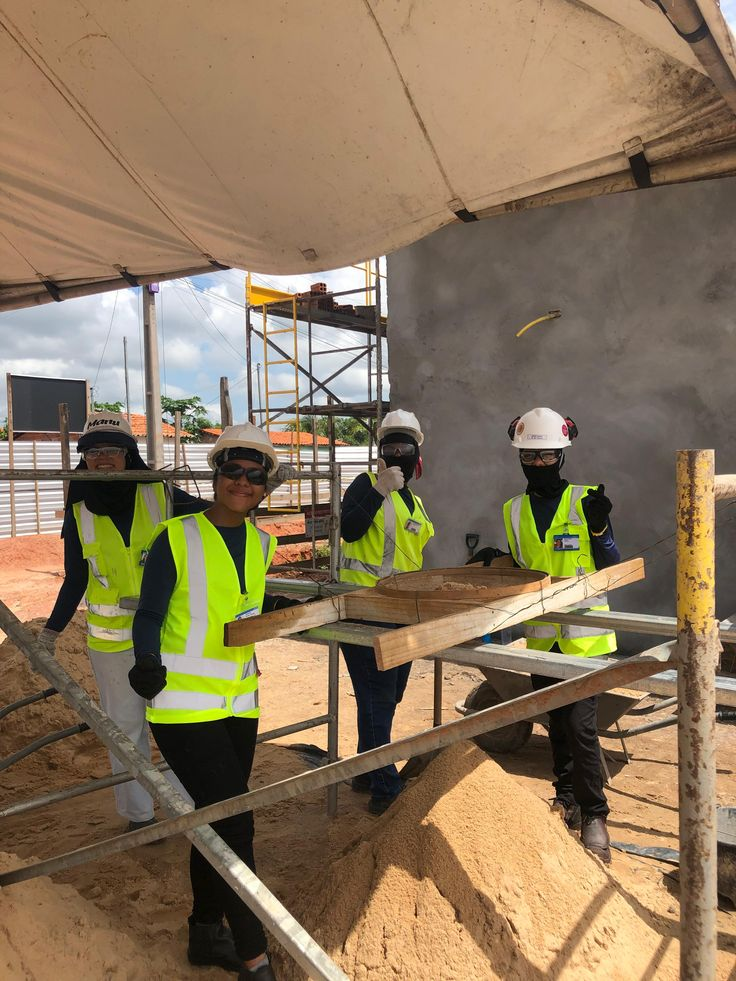hardhat: (500, 407, 586, 455), (68, 409, 151, 449), (206, 418, 286, 459), (376, 397, 431, 439)
person: (140, 418, 312, 975), (484, 393, 639, 861), (54, 405, 189, 834), (308, 384, 438, 802)
safety_vest: (162, 508, 280, 722), (502, 481, 619, 669), (65, 496, 161, 677), (341, 455, 441, 582)
